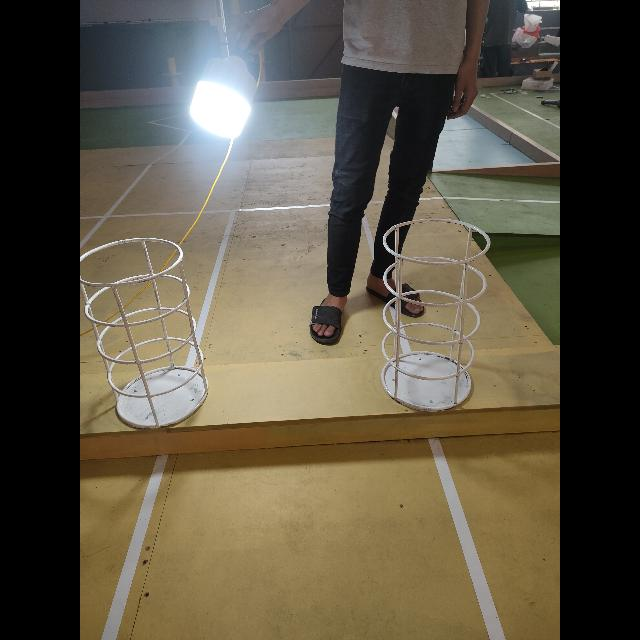S: (80, 226, 213, 431), (379, 214, 494, 417)
